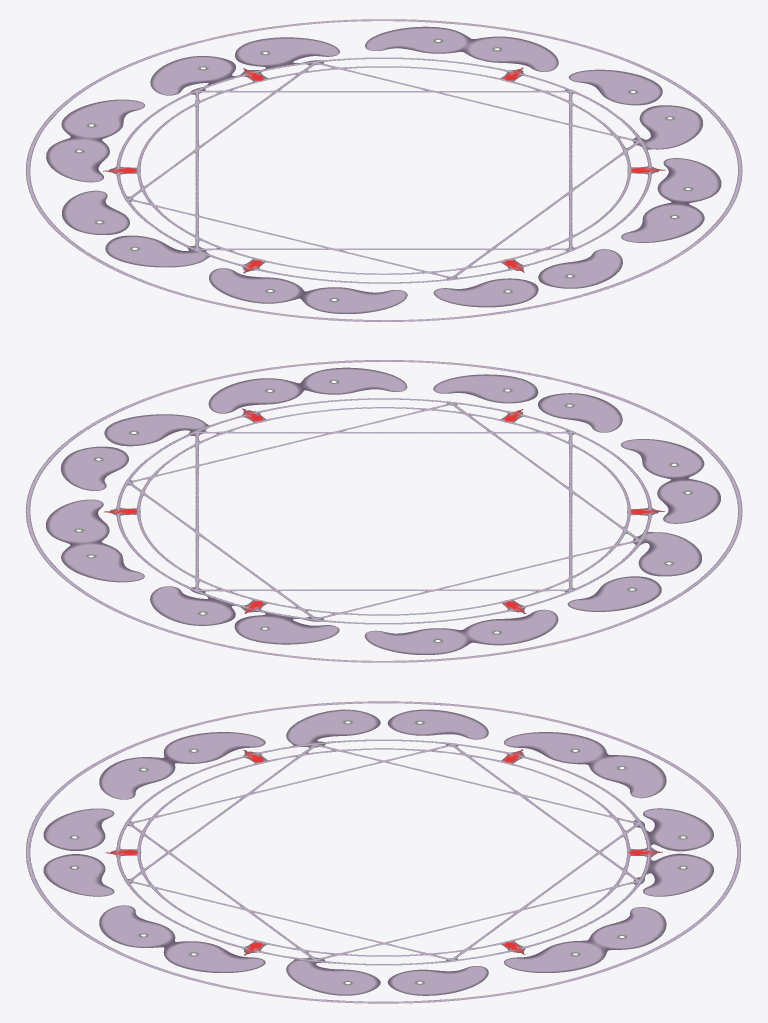
Rendered from Unit_Magic circle.fbx.
The picture shows the model from 3 angles, top to bottom: view 1: azimuth 30°, elevation 25°; view 2: azimuth 150°, elevation 25°; view 3: azimuth 270°, elevation 25°; orthographic projection.
Visible parts, largest first — view 1: Unit_Magic_circle; view 2: Unit_Magic_circle; view 3: Unit_Magic_circle.
Boxes of the visible parts, x1,y1,x2,y2 form: Unit_Magic_circle: (25,19,742,321); Unit_Magic_circle: (25,360,742,662); Unit_Magic_circle: (26,701,740,1003).
Size of the model in its own units: 60 by 0 by 60.
